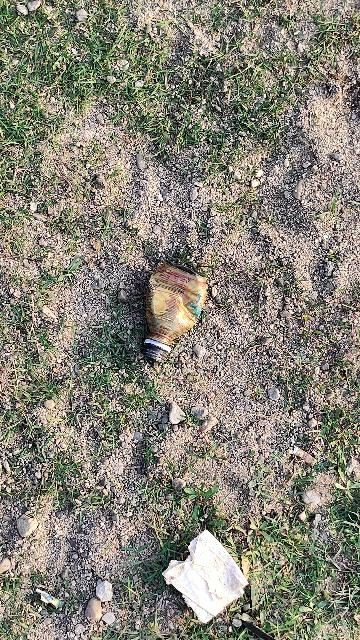bottle: (126, 259, 220, 365)
